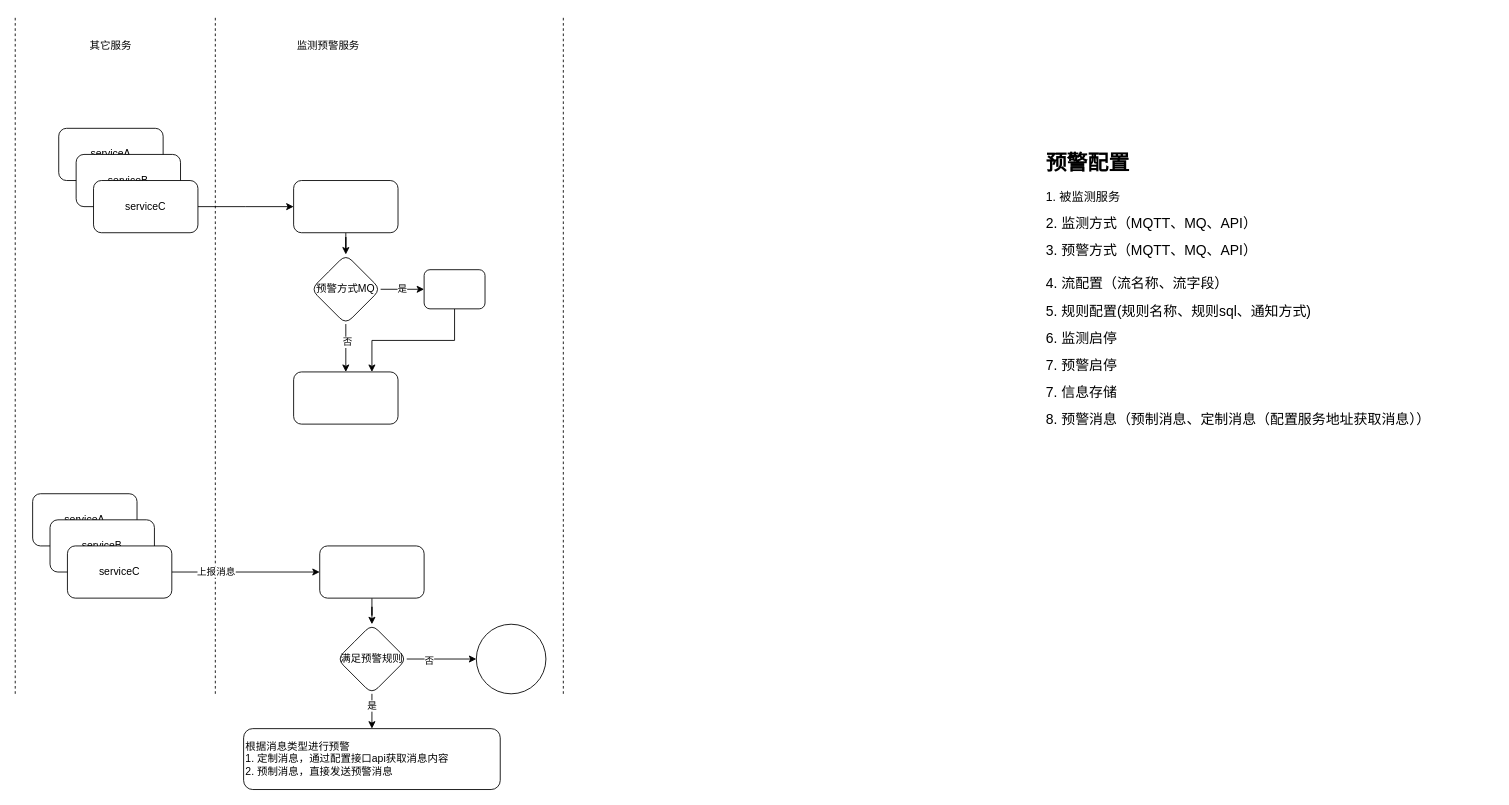
Some shapes in this 1509 by 805 pixel diagram are drawn without their labels. Here are the shapes that lost their labels. From the top down, the box of each, then its label:
(293, 180, 398, 233): 预警配置
(423, 269, 485, 309): 转MQTT
(293, 371, 398, 424): 根据配置创建Ekuiper流及规则
(319, 545, 424, 598): Ekuiper根据预警规则进行监测
(475, 623, 546, 694): end
